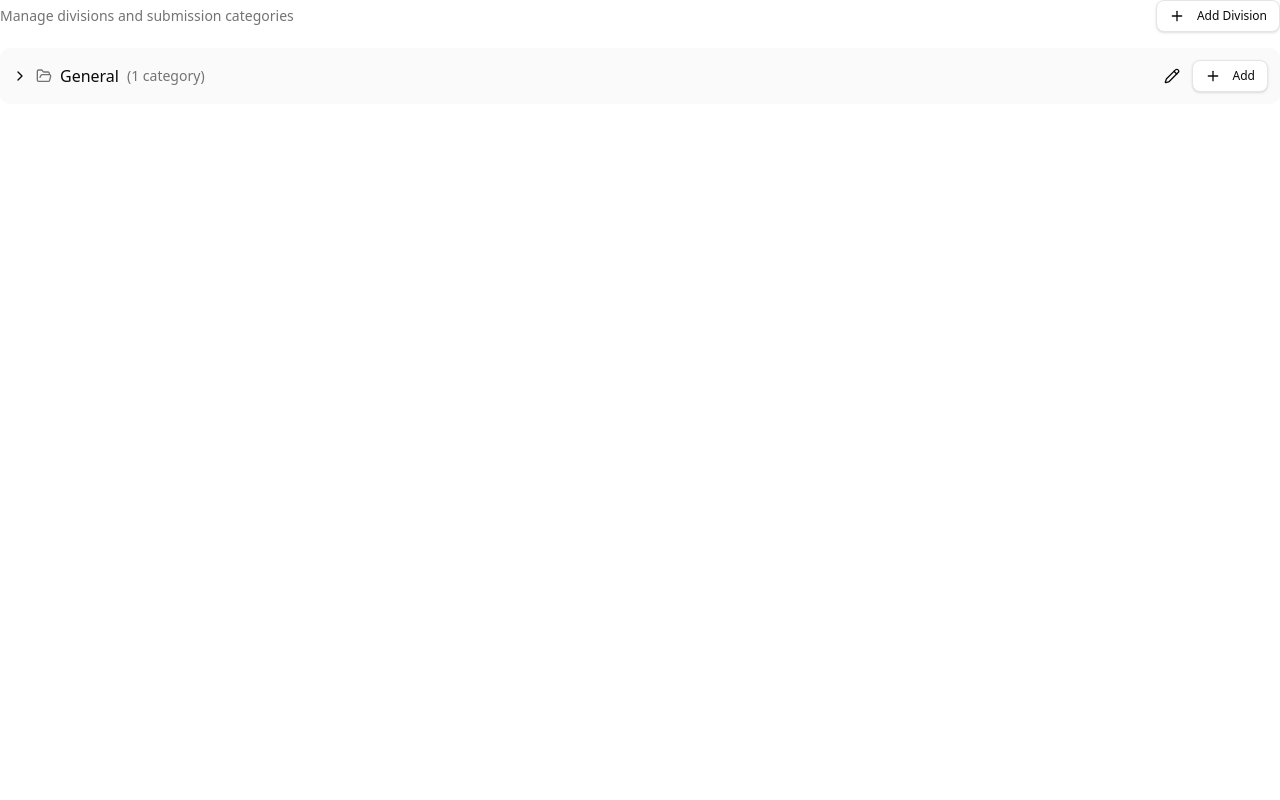
Test: CategoriesTab › opens create category form sheet when Add clicked
The image size is (1280, 800).
# Click the first Add button (for adding category to division)
Click the button "Add".
click(1230, 76)  # box [1192,60,1268,92]
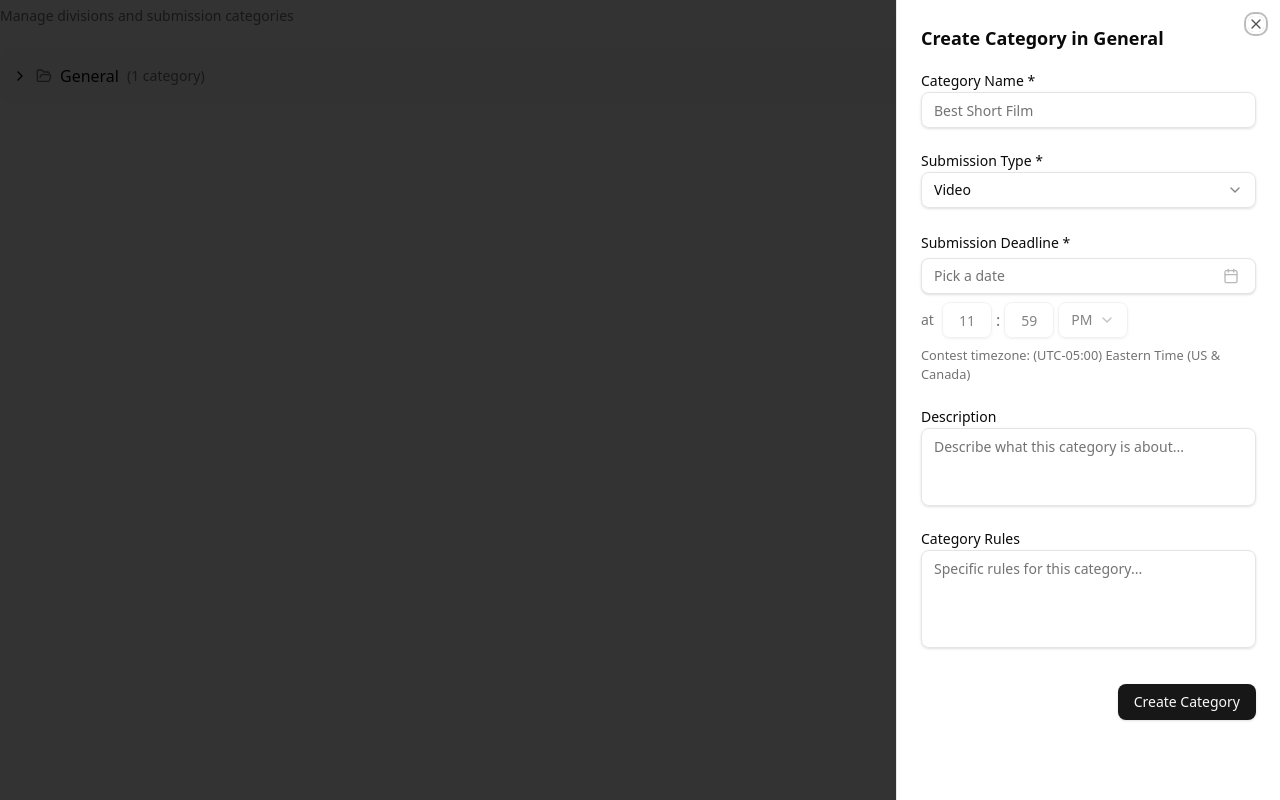
Expected: the heading "Create Category in General" is shown, [921,26,1164,50]
